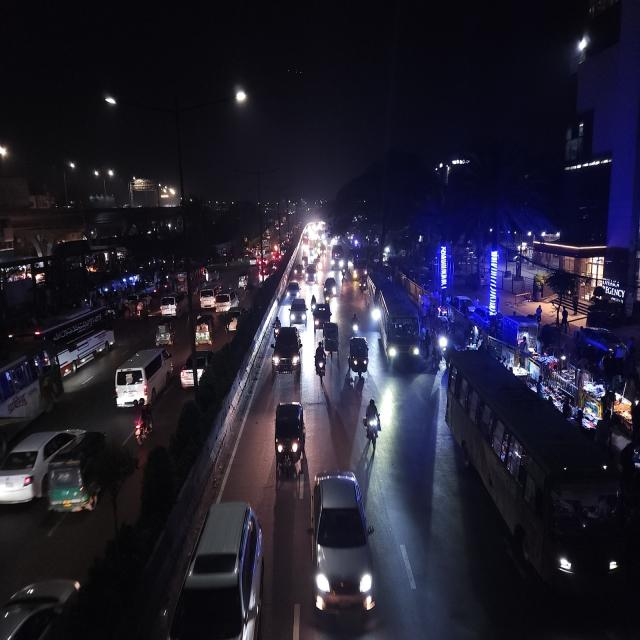bus: (444, 348, 633, 614), (22, 307, 116, 372), (0, 339, 57, 441), (374, 283, 422, 372), (572, 0, 626, 51), (349, 254, 368, 281), (331, 247, 344, 270)
car: (171, 498, 265, 640), (309, 463, 377, 630), (0, 425, 96, 514), (0, 572, 88, 640), (112, 346, 174, 410), (271, 323, 303, 377), (179, 348, 214, 392), (288, 297, 308, 330), (225, 307, 245, 337), (160, 296, 190, 316), (214, 289, 238, 312), (198, 285, 218, 309), (322, 276, 338, 302), (284, 278, 302, 301), (306, 266, 319, 286), (291, 261, 305, 279)
cng: (45, 435, 111, 518), (272, 397, 308, 482), (346, 333, 371, 388), (192, 310, 216, 348), (153, 318, 179, 347), (324, 318, 340, 358), (237, 270, 246, 293)
motorcycle: (132, 398, 156, 448), (363, 395, 383, 447), (314, 339, 328, 382), (349, 310, 361, 340), (271, 312, 282, 340), (310, 291, 318, 315)
pickup_van: (312, 300, 332, 329)
